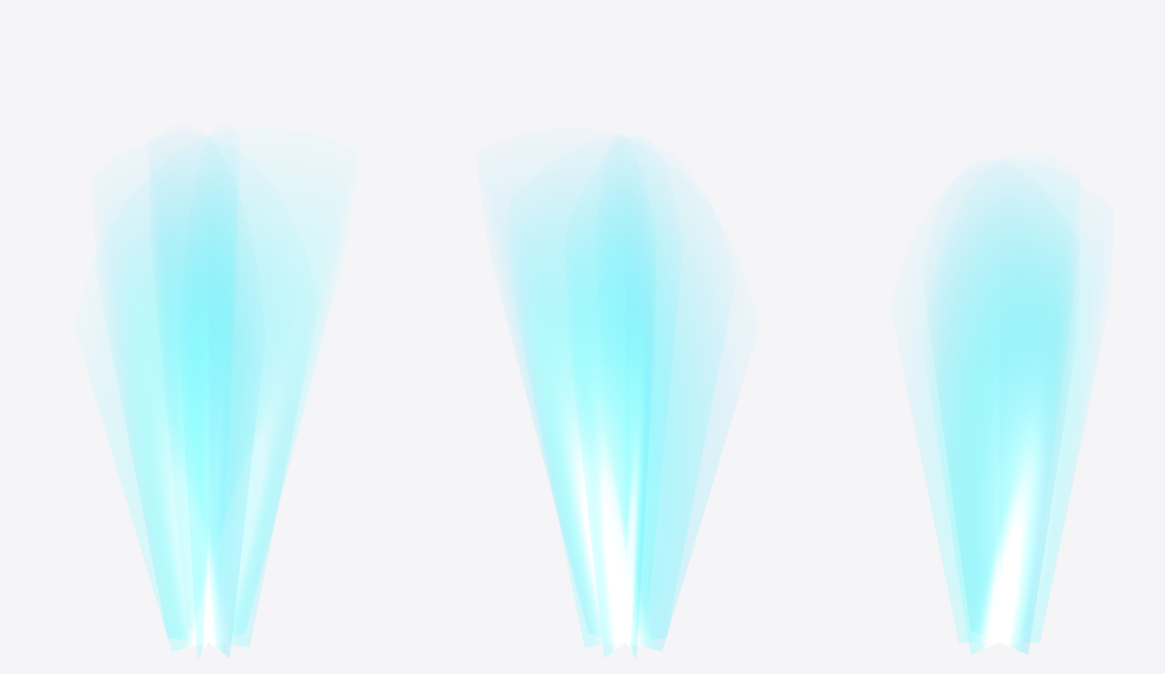
File: beam.glb
3 views of the same model, side by side, from view 1: azimuth 30°, elevation 25°; view 2: azimuth 150°, elevation 25°; view 3: azimuth 270°, elevation 25° (orthographic). The views are drawn at different scales.
Parts seen in each view (by area): view 1: Plane_Hologram-lights_0; view 2: Plane_Hologram-lights_0; view 3: Plane_Hologram-lights_0.
Boxes of the visible parts, <box> form: Plane_Hologram-lights_0: <box>112,151,324,657</box>; Plane_Hologram-lights_0: <box>509,153,719,657</box>; Plane_Hologram-lights_0: <box>927,191,1087,653</box>.
Bounding box in the file's own units: 3.63 × 5.03 × 2.57.
1 material, 1 textured.
